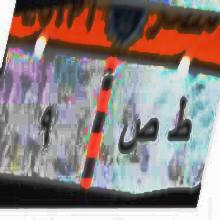9: (37, 100, 55, 156)
Taa: (166, 87, 192, 155)
saad: (116, 109, 160, 171)
